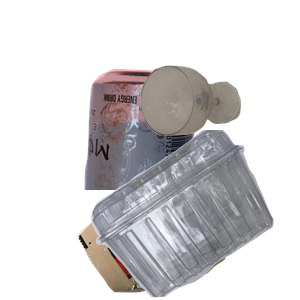glass: (138, 63, 300, 191)
metal: (82, 66, 270, 246)
plastic: (88, 130, 300, 300)
trash: (76, 170, 300, 300)
